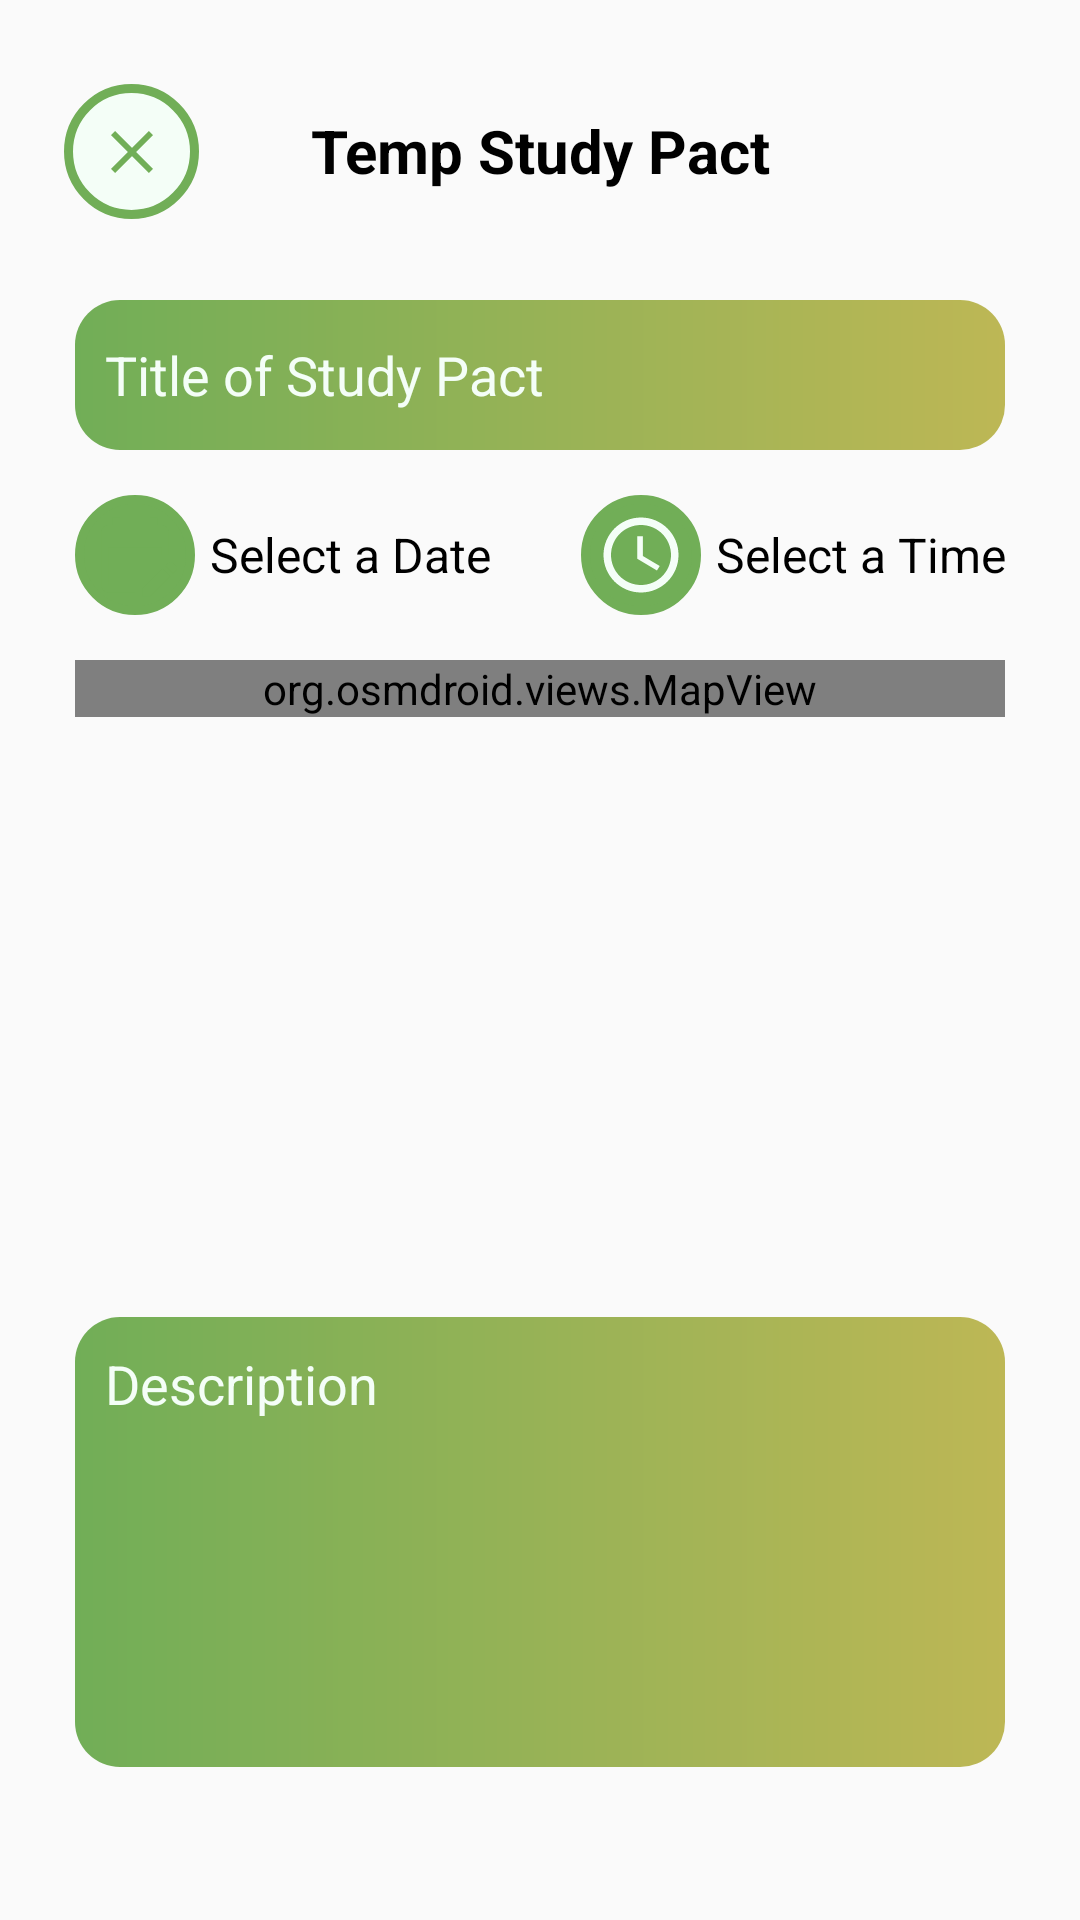

Screen size 1080×1920. Icon name, then its box in pixels as Rect(x1, y1, x2, y2):
close: Rect(64, 84, 199, 219)
